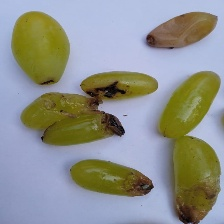grapes: (0, 2, 201, 178)
